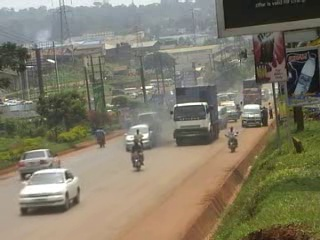Car: (18, 166, 82, 213), (17, 146, 64, 180), (122, 121, 156, 153)
Motorcycle: (129, 137, 147, 172), (224, 125, 240, 151), (94, 124, 107, 149), (132, 128, 145, 152)
